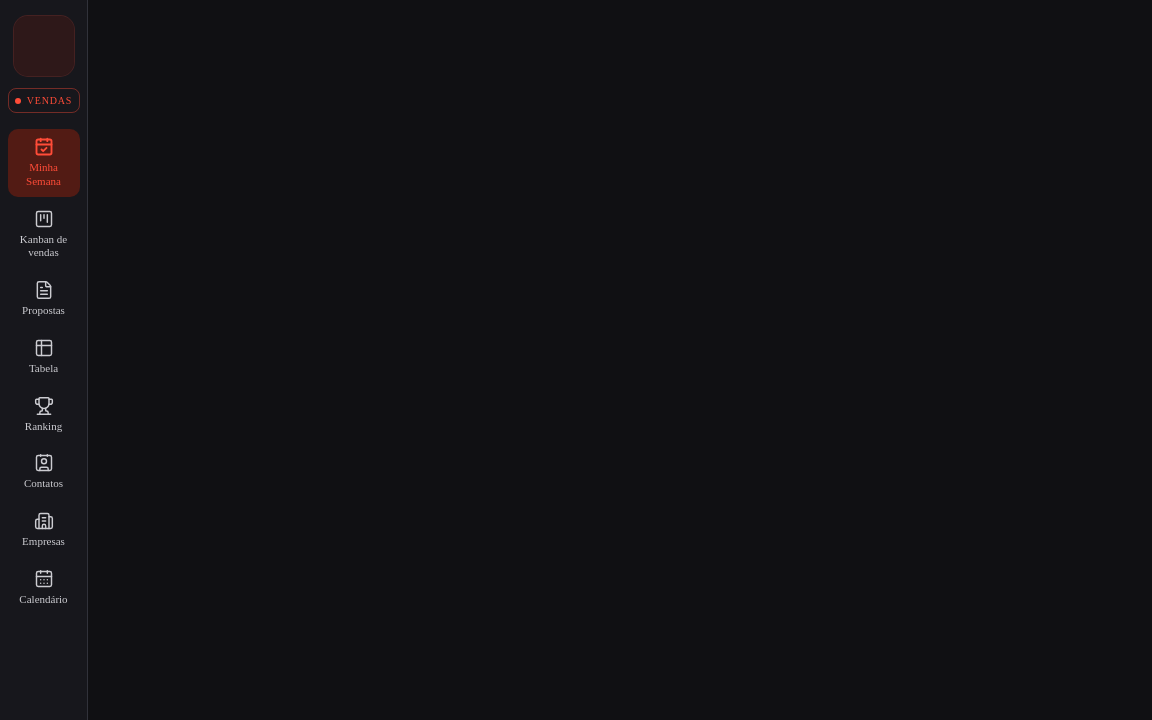
Test: Gaveta › escolher um item de Geral fecha
Click the button named "Abrir menu de áreas": (44,46) x1=14 y1=16 x2=74 y2=76
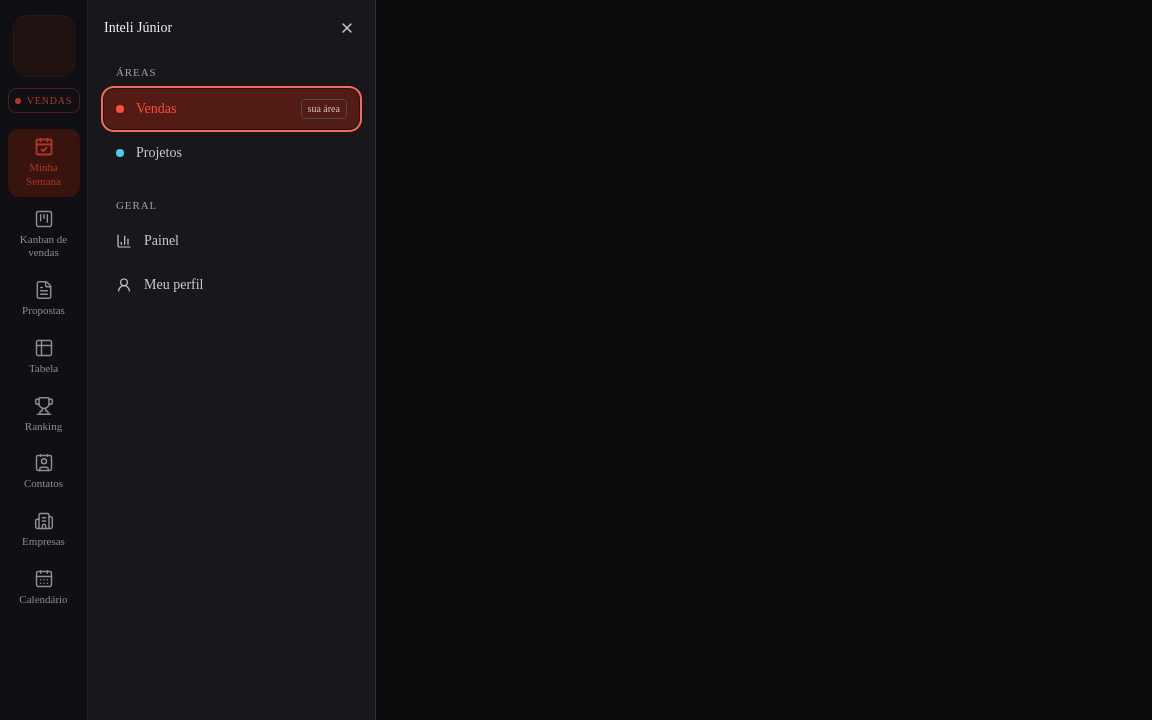
Click the link "Painel": (148,241) x1=116 y1=233 x2=179 y2=249
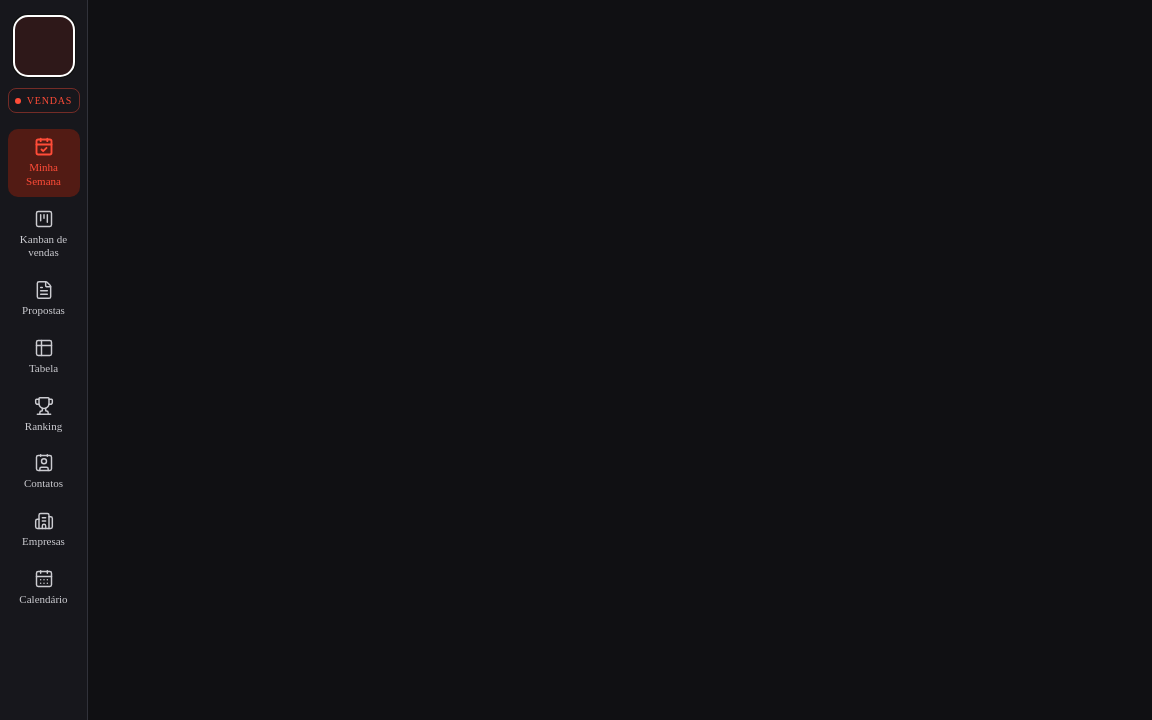
Expected: the dialog is gone
